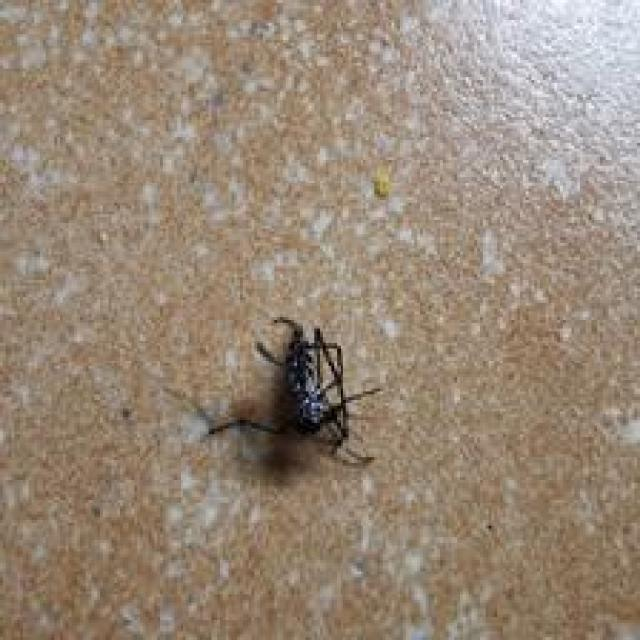Aedes albopictus: (205, 314, 382, 466)
